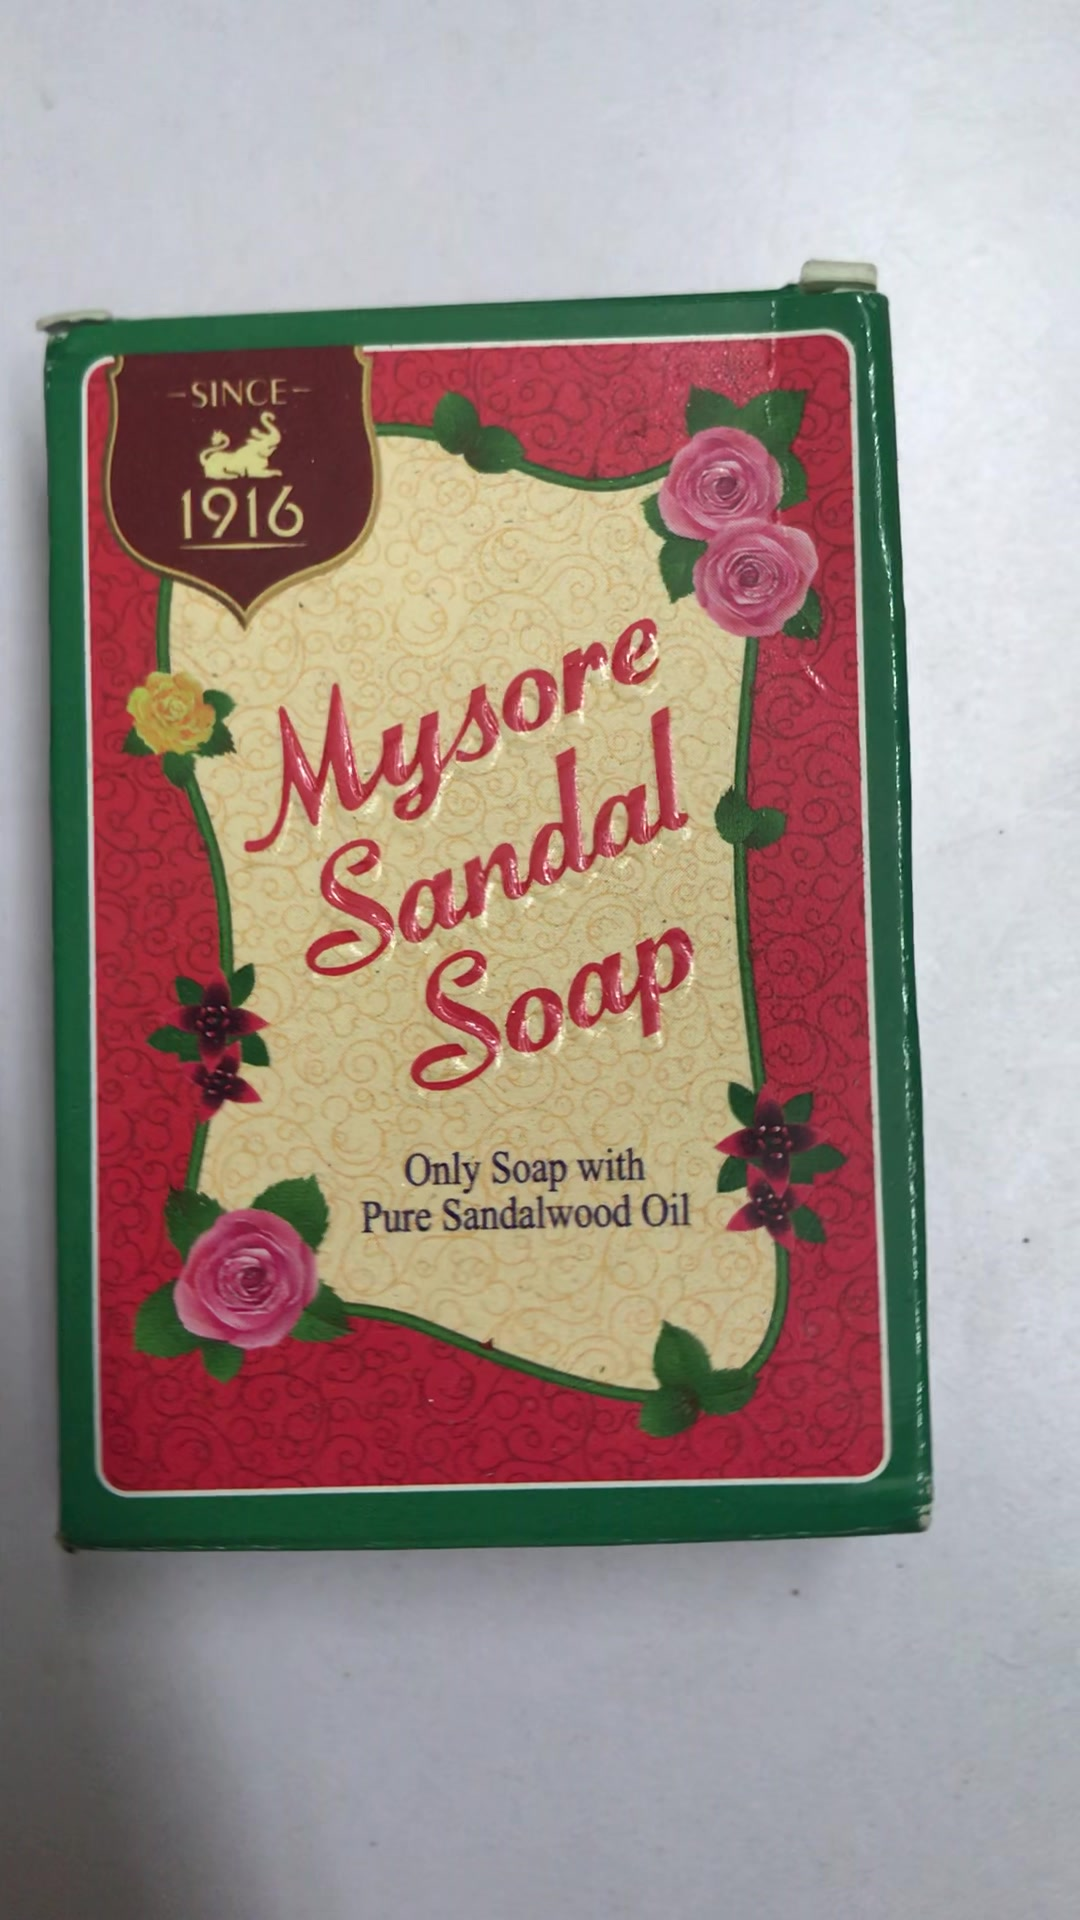mysore sandal soap: (47, 262, 936, 1544)
